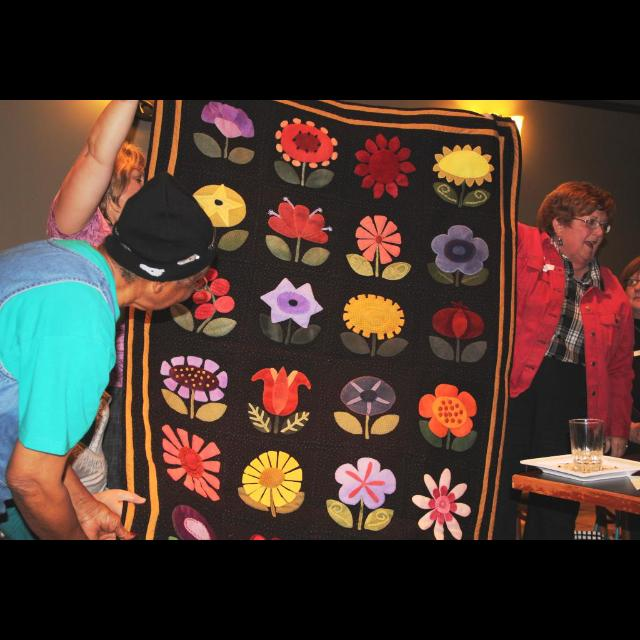Flower: (158, 422, 220, 504), (408, 469, 472, 539), (332, 453, 398, 512), (343, 288, 409, 344), (418, 380, 479, 438), (276, 119, 342, 170), (161, 354, 223, 408), (261, 276, 323, 330), (428, 140, 494, 190), (243, 448, 304, 502), (250, 364, 308, 416), (193, 181, 249, 231), (190, 264, 232, 330), (339, 373, 398, 419), (435, 222, 487, 274), (272, 192, 330, 238), (356, 210, 398, 264), (202, 100, 252, 140), (432, 306, 481, 336)
